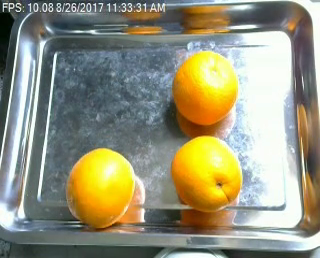Orange: (65, 147, 136, 227), (171, 135, 241, 213), (170, 49, 237, 125)
